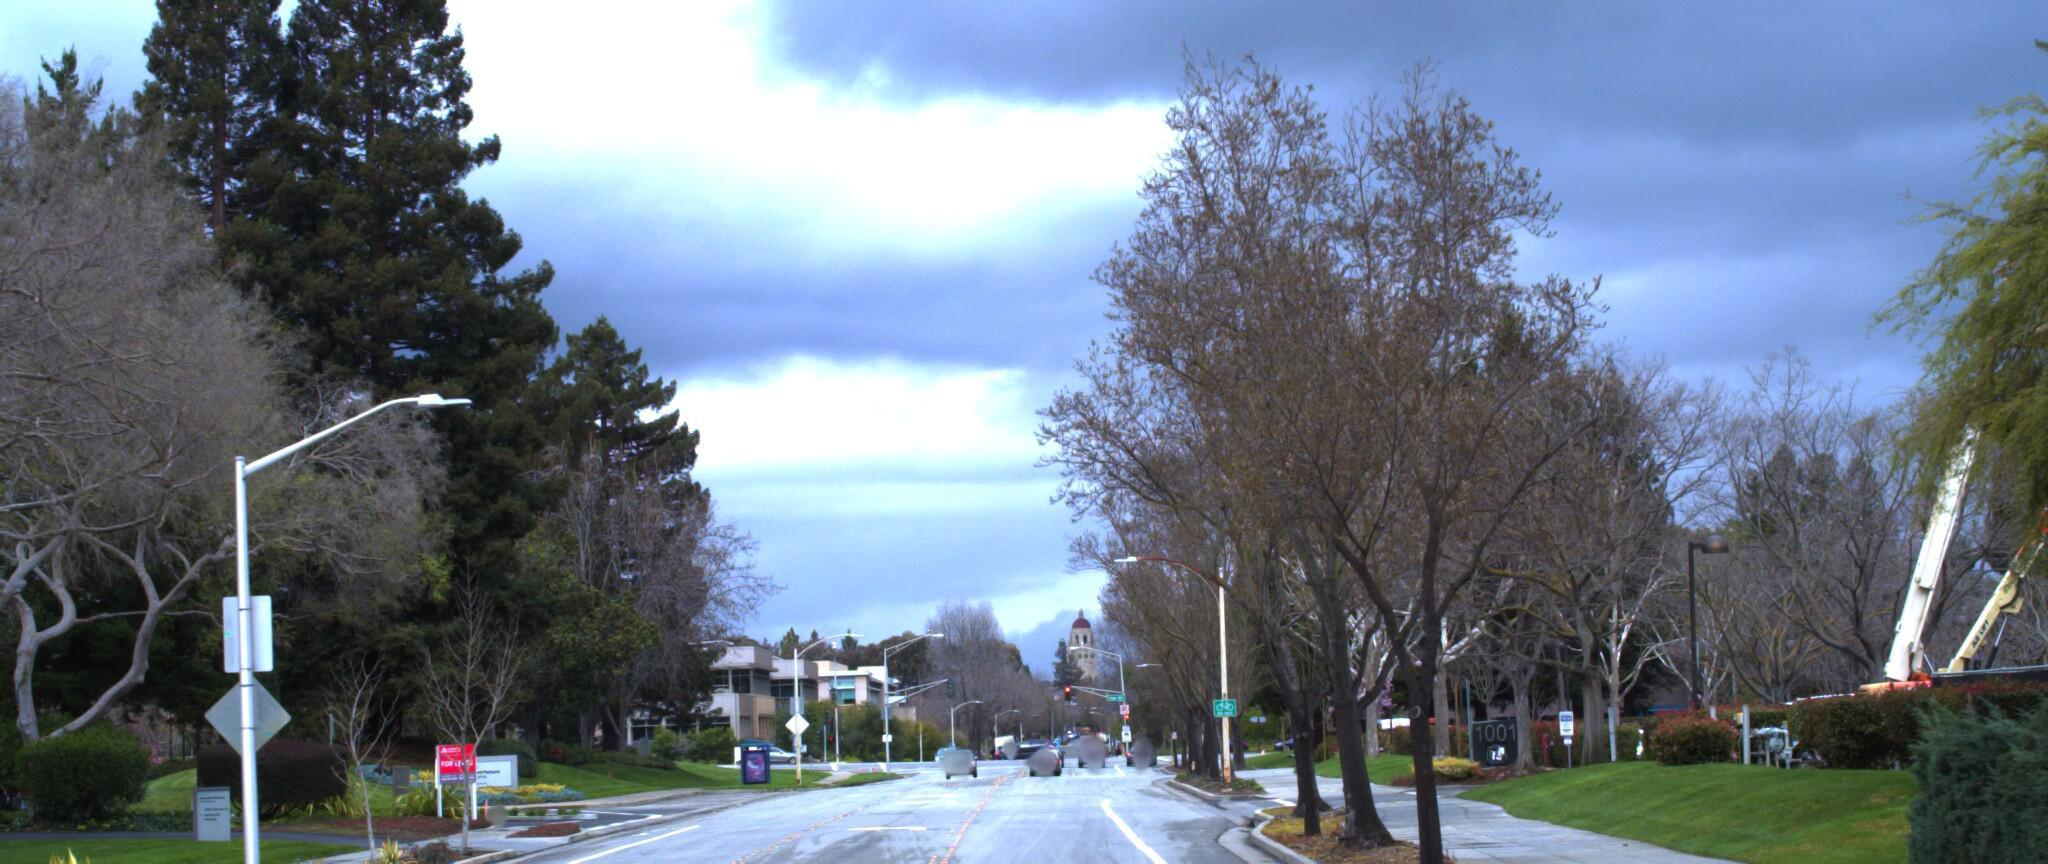other_vehicle: (1725, 303, 2048, 769), (1770, 454, 2048, 767)
